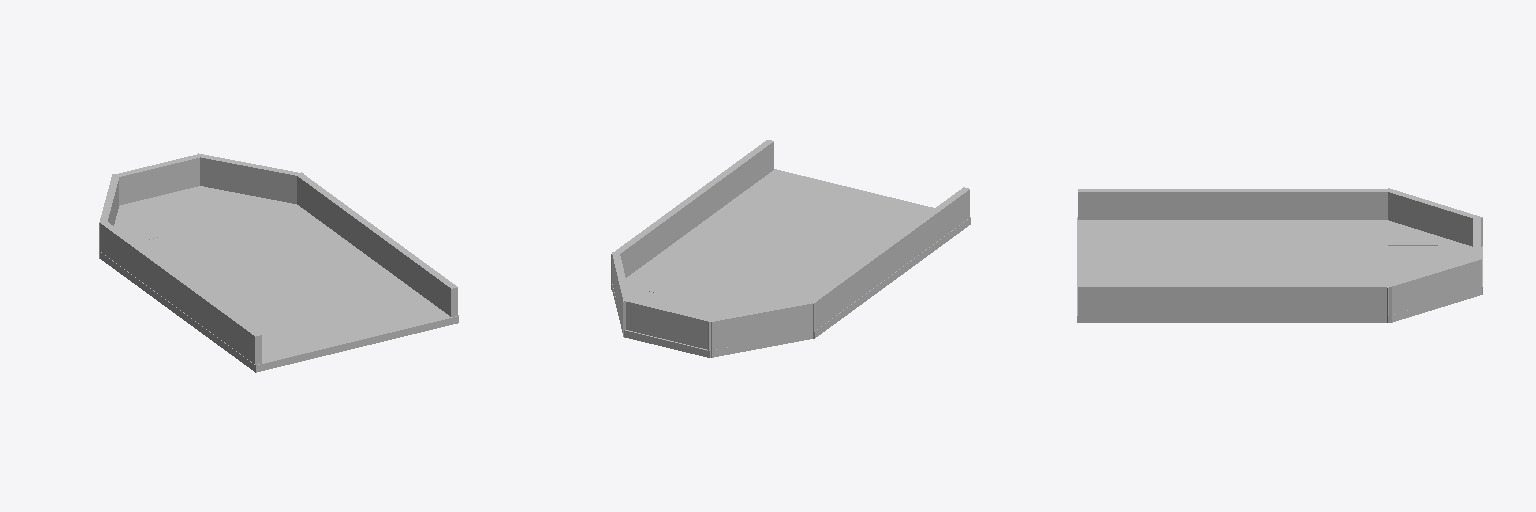
Rendered from bottom3.obj.
3 views of the same model, side by side, from view 1: azimuth 30°, elevation 25°; view 2: azimuth 150°, elevation 25°; view 3: azimuth 270°, elevation 25° (orthographic).
Visible parts, largest first — view 1: Box010, Box015, Box016, Box013, Box017, Box018, Line008, Line007, Box014; view 2: Box010, Box015, Box016, Box014, Box018, Box013, Box017; view 3: Box010, Box016, Box015, Box017, Box014, Box013, Line007.
Boxes of the visible parts, <box> form: Box010: <box>100,204,458,372</box>; Box015: <box>99,220,261,364</box>; Box016: <box>297,172,457,316</box>; Box013: <box>119,186,244,236</box>; Box017: <box>196,153,303,203</box>; Box018: <box>115,154,201,205</box>; Line008: <box>205,187,291,214</box>; Line007: <box>114,208,157,242</box>; Box014: <box>99,174,118,258</box>; Box010: <box>626,169,970,338</box>; Box015: <box>809,187,969,338</box>; Box016: <box>611,140,773,289</box>; Box014: <box>706,300,815,351</box>; Box018: <box>626,299,714,357</box>; Box013: <box>624,294,743,357</box>; Box017: <box>612,252,630,336</box>; Box010: <box>1077,217,1390,322</box>; Box016: <box>1078,284,1391,322</box>; Box015: <box>1078,189,1391,219</box>; Box017: <box>1387,258,1481,322</box>; Box014: <box>1386,188,1482,246</box>; Box013: <box>1384,246,1482,293</box>; Line007: <box>1388,220,1468,245</box>.
Size of the model in its own units: 6.03 by 1.01 by 10.36.